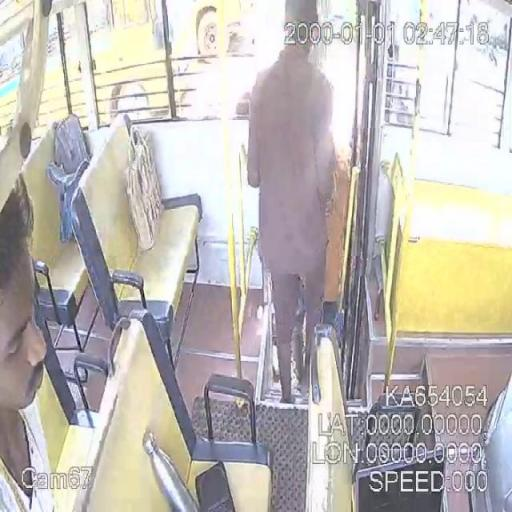persona: (245, 1, 340, 402), (0, 172, 56, 510)
